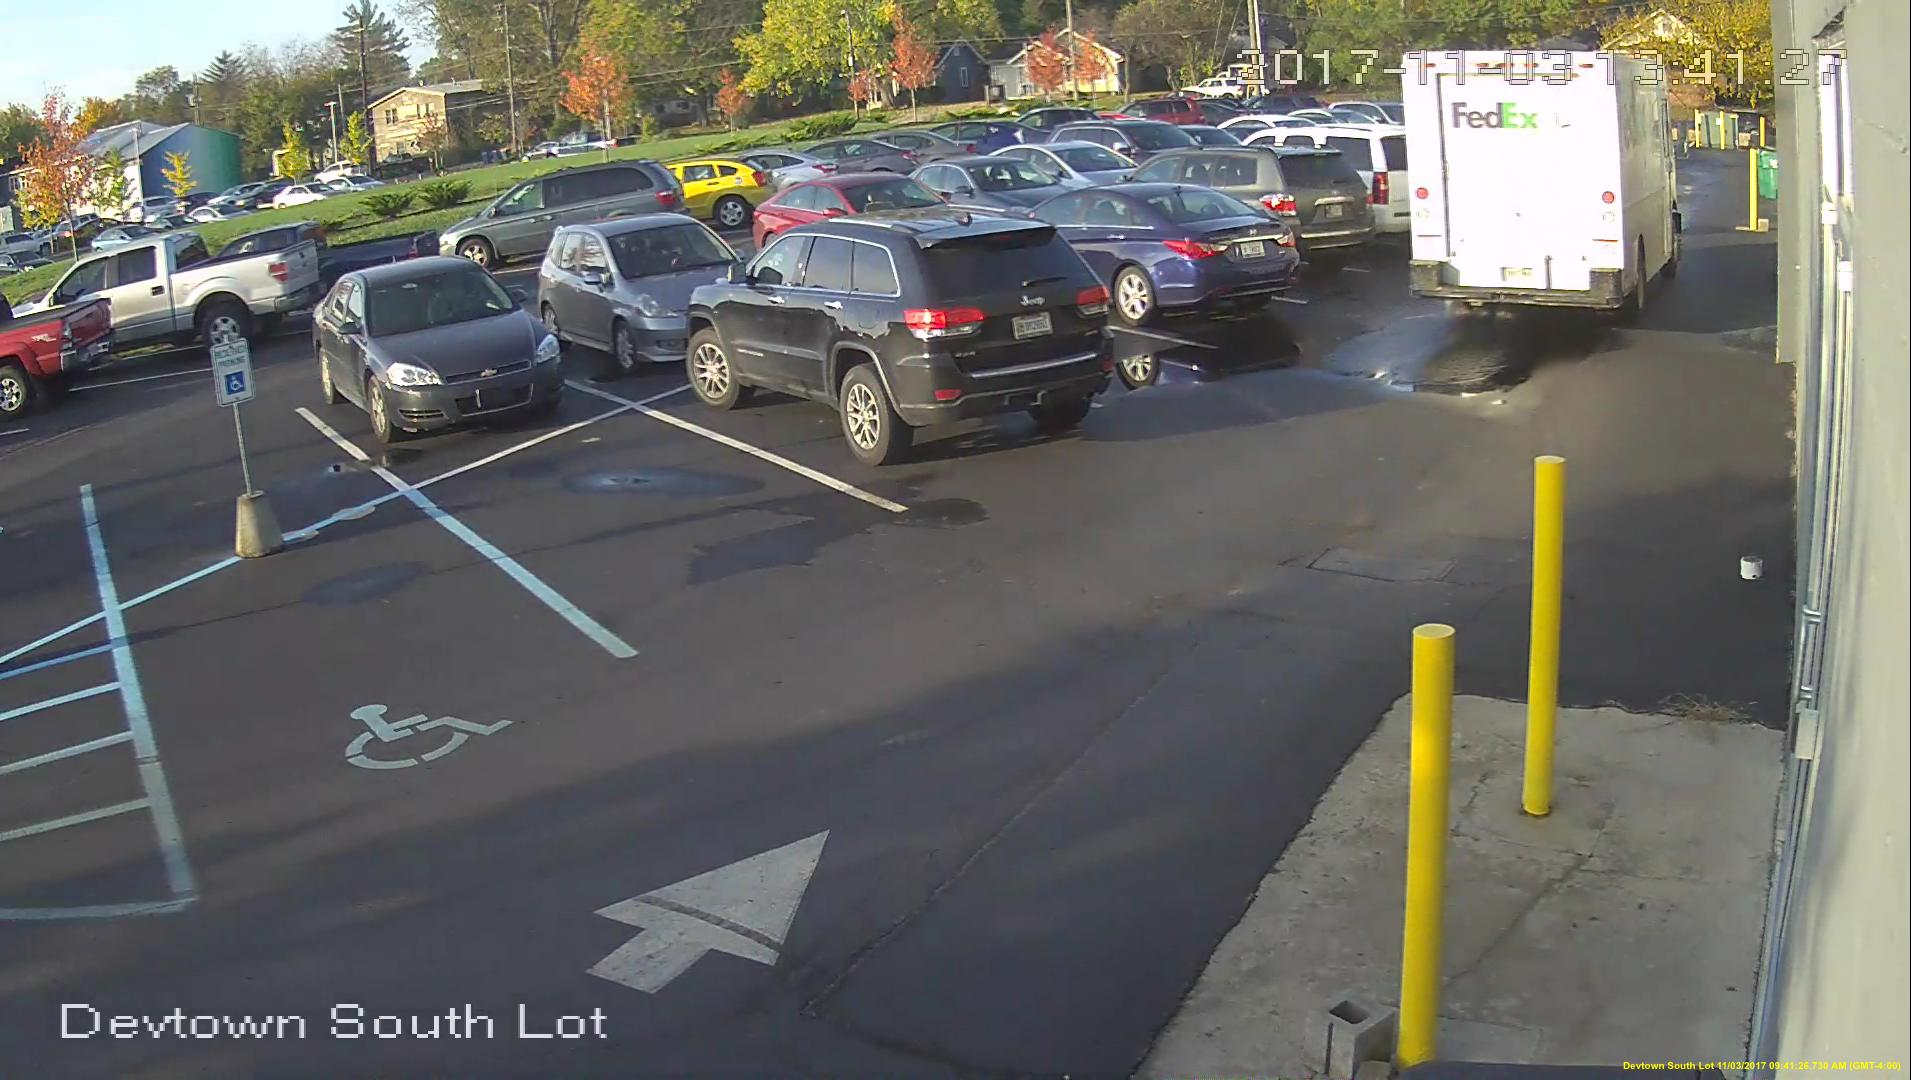fedex_truck: (1396, 45, 1692, 322)
